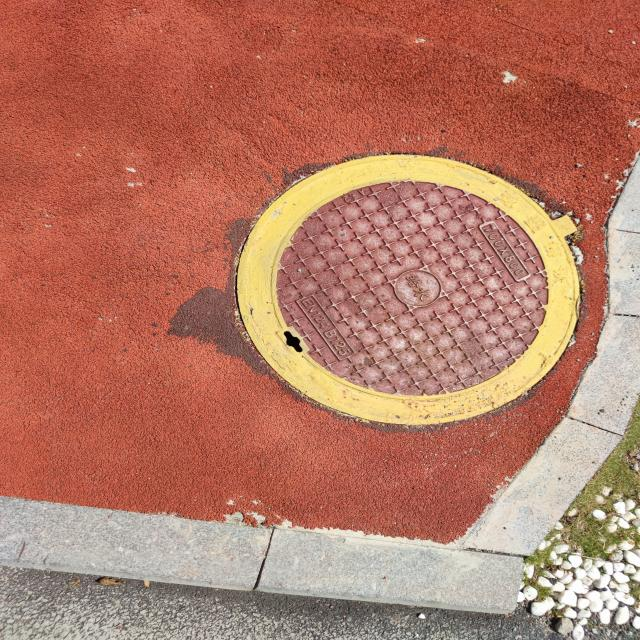Good: (230, 148, 585, 430)
